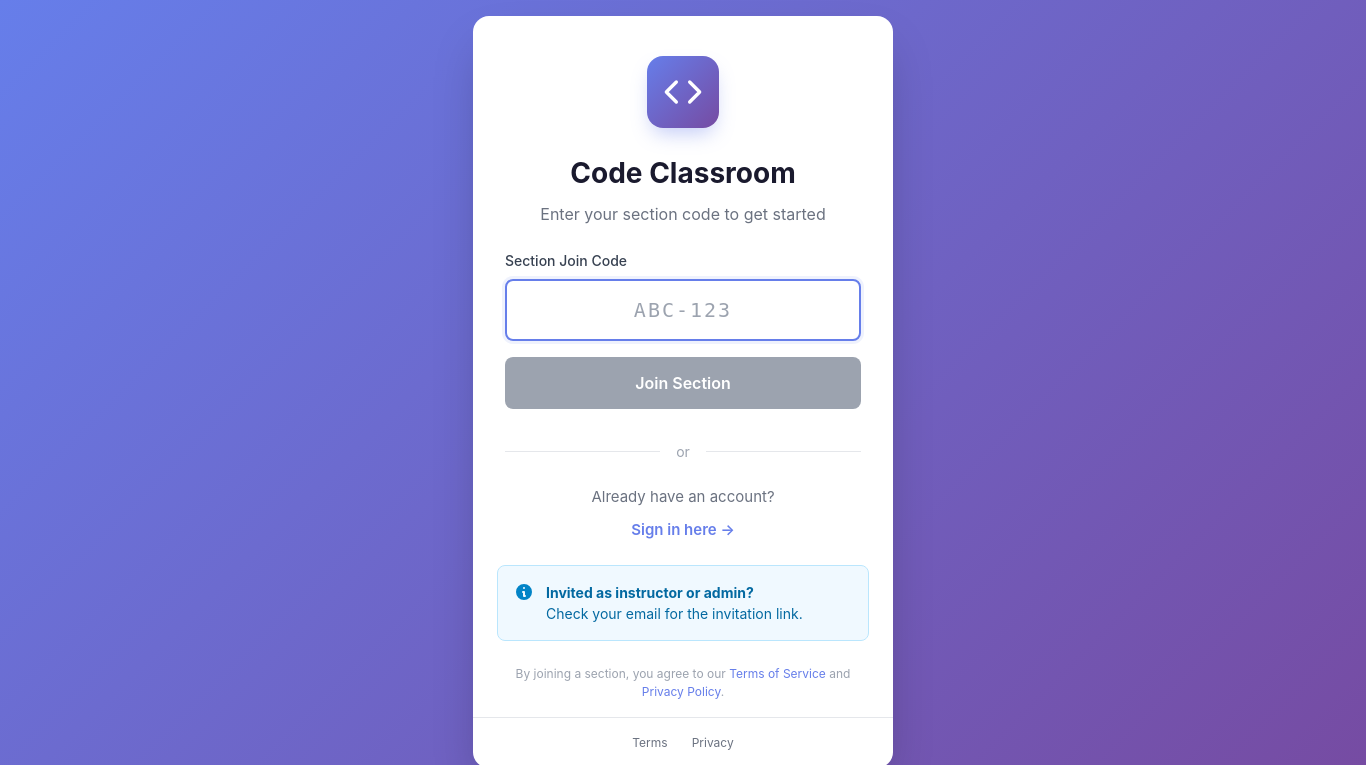
Test: Landing Page › Join Code Validation › shows error for invalid code format
The image size is (1366, 765).
In the field with placeholder "ABC-123": (683, 310) [505, 279, 861, 341], type "ABC"
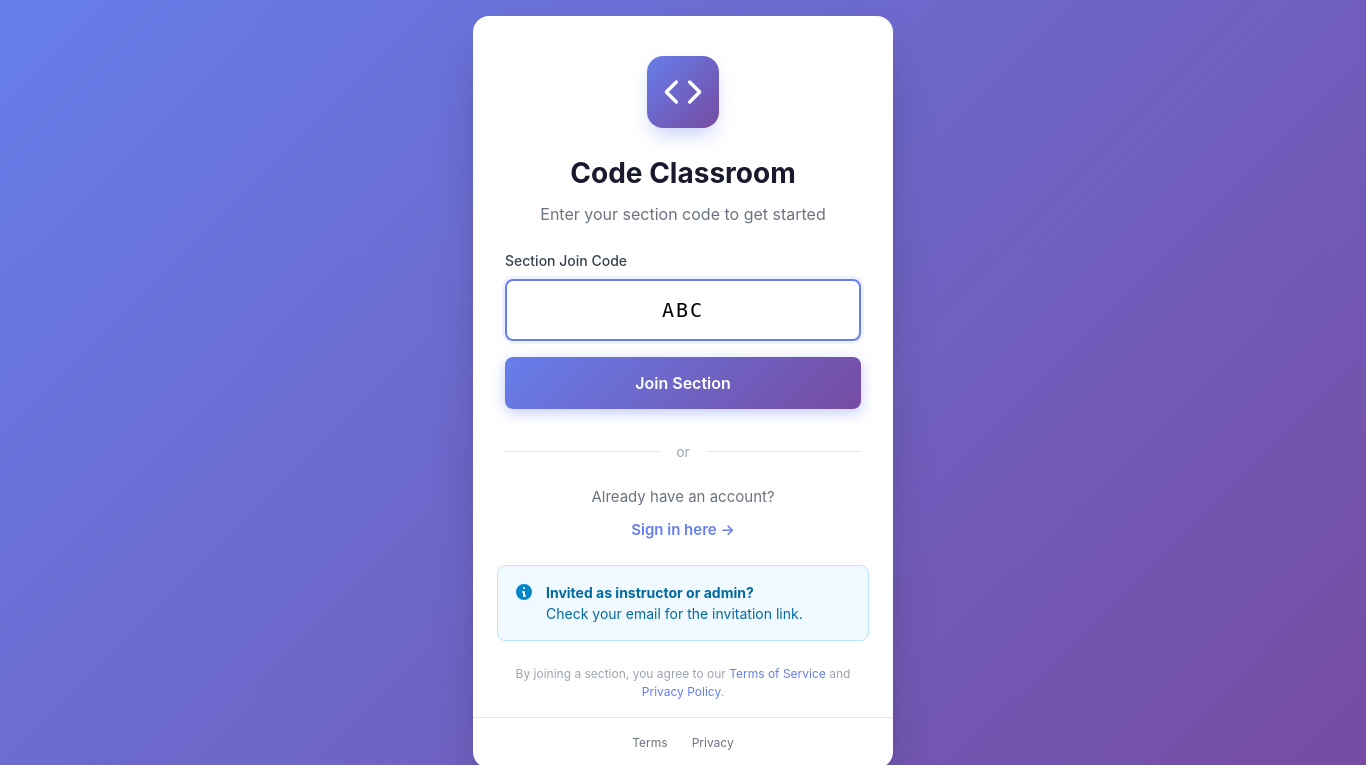
Click the button "Join Section": (683, 383) [505, 357, 861, 409]
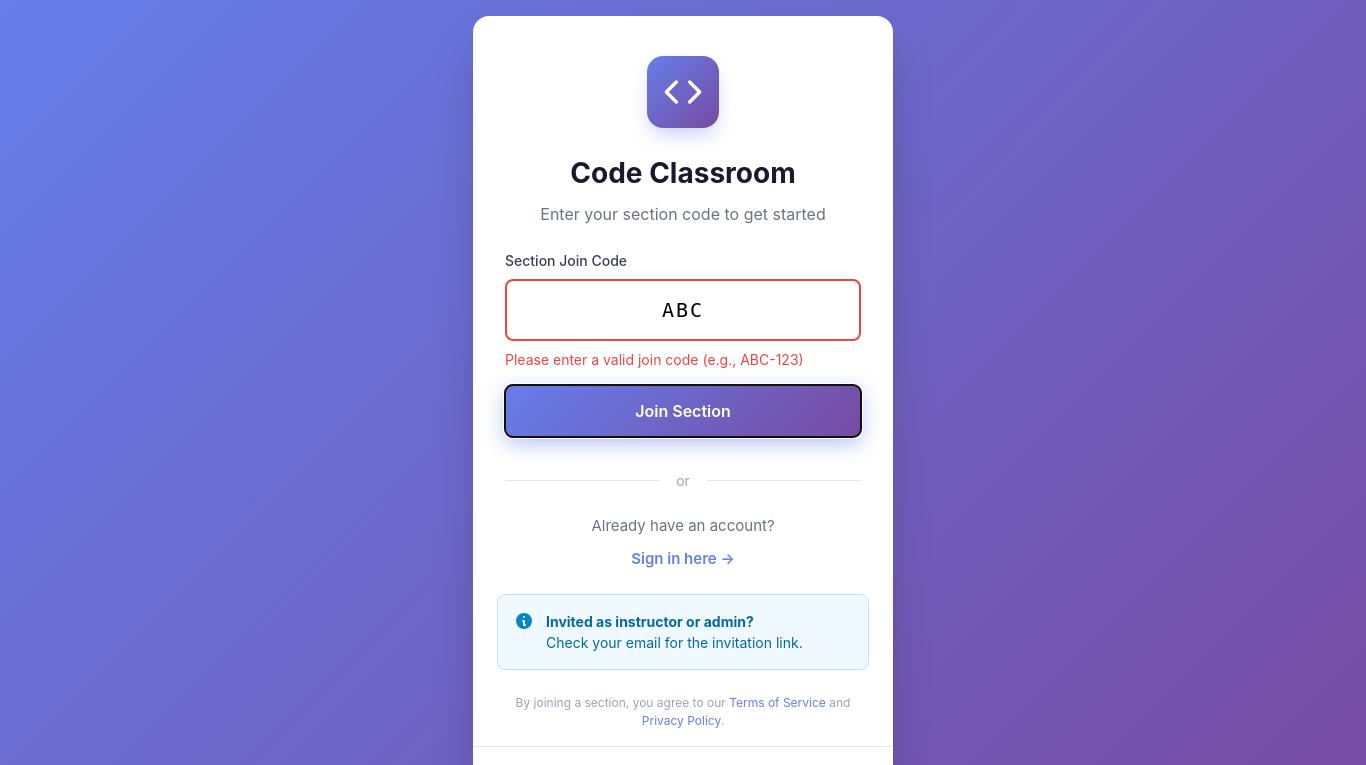
Expected: the text "Please enter a valid join code (e.g., ABC-123)" is shown, [505, 351, 804, 368]
